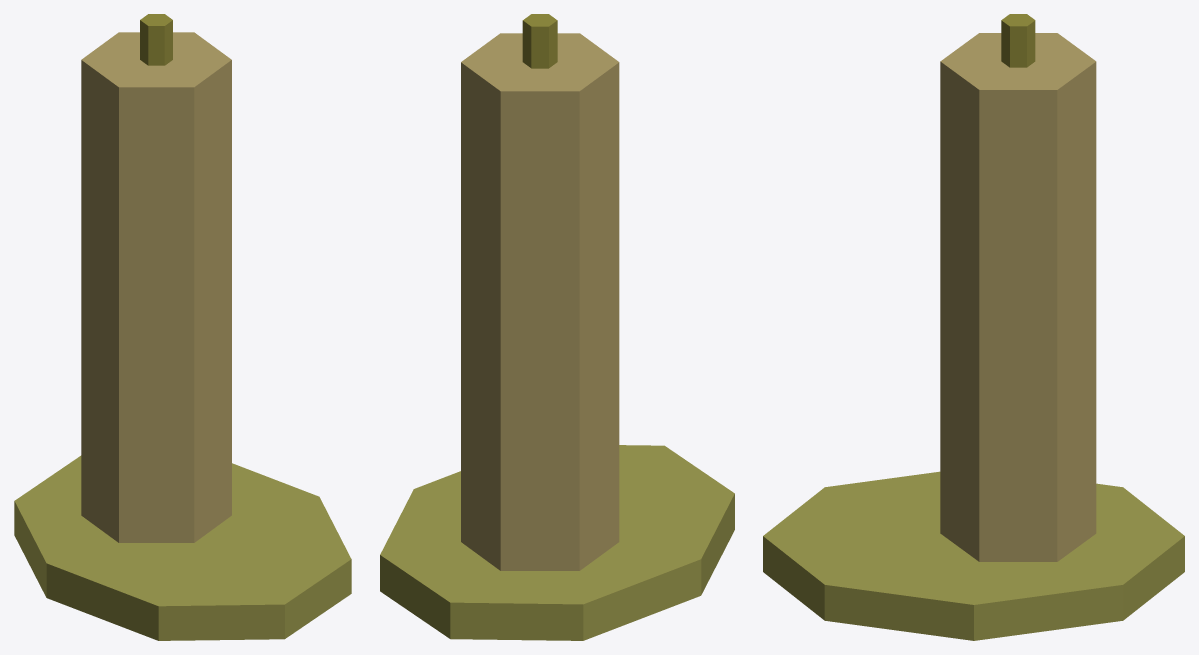
The model's file is CandleCollection1.fbx.
The picture shows the model from 3 angles, left to right: view 1: azimuth 30°, elevation 25°; view 2: azimuth 150°, elevation 25°; view 3: azimuth 270°, elevation 25°; orthographic projection. The views are drawn at different scales.
Parts seen in each view (by area): view 1: single_candle; view 2: single_candle; view 3: single_candle.
Boxes of the visible parts, x1=… form: single_candle: x1=14, y1=14, x2=351, y2=640; single_candle: x1=380, y1=14, x2=734, y2=640; single_candle: x1=763, y1=14, x2=1184, y2=640.
Bounding box in the file's own units: 18.55 × 34.43 × 23.97.
